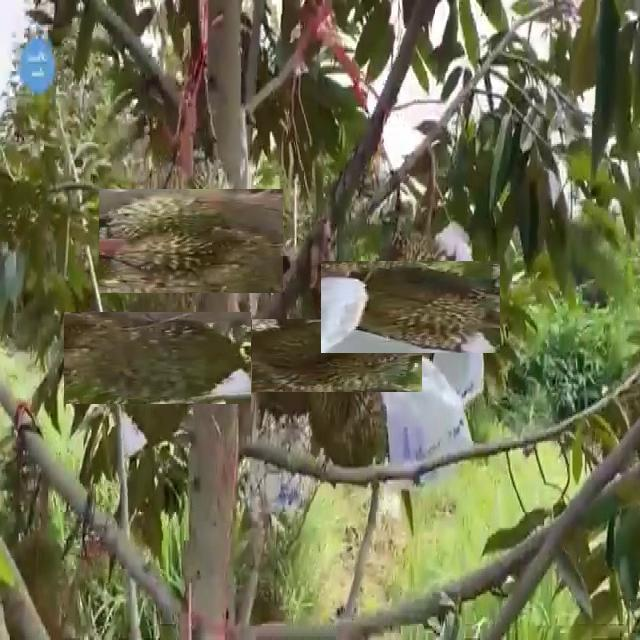durian: (119, 169, 263, 314), (88, 288, 228, 428), (342, 238, 479, 374), (276, 294, 398, 416)
